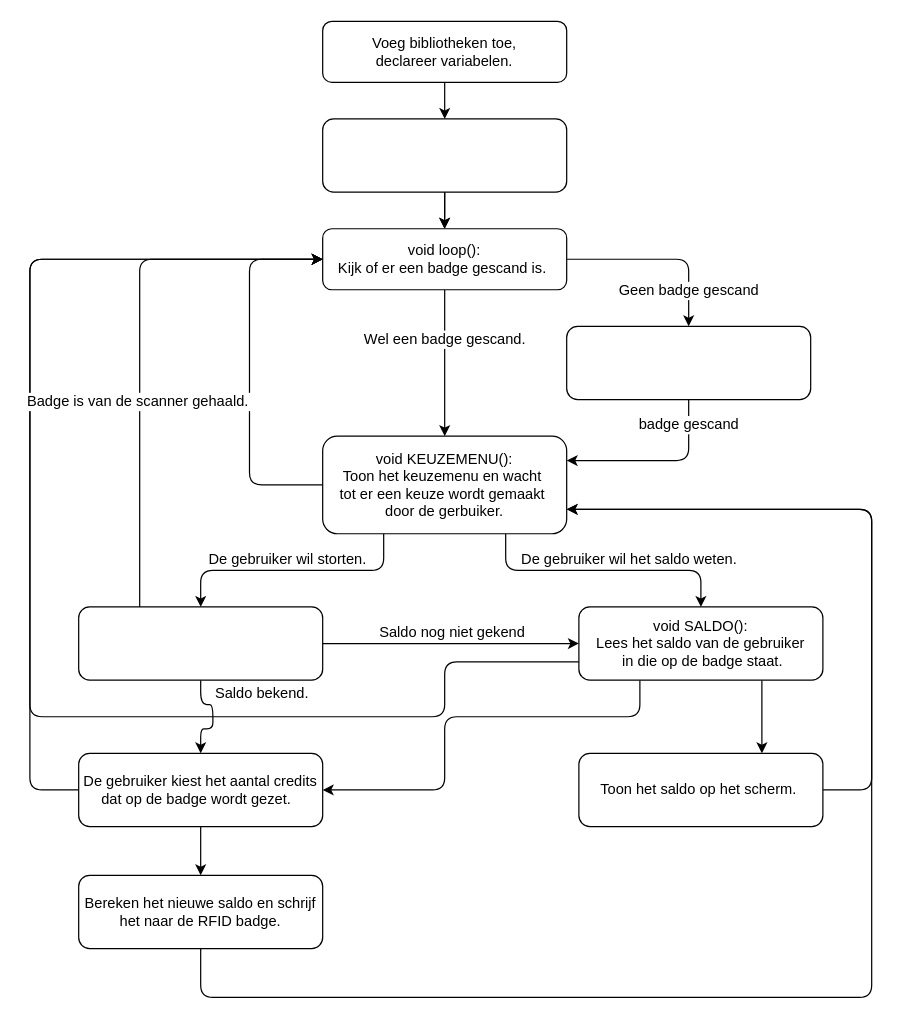
Image size: 903x1028. Some labels were removed from this diagram. Here are the shapes that lost their labels. From the top down, the box of each, then its label:
(321, 118, 567, 192): Initialiseer de LCD en RFID, begin de SPI en Seriële communicatie in de setup.
(565, 325, 811, 400): void RFIDSCAN(): Blijf controleren of er een badge op de scanner ligt.
(77, 606, 323, 680): void STORT(): Kijk eerst of het saldo gekend is van de gebruiker.
